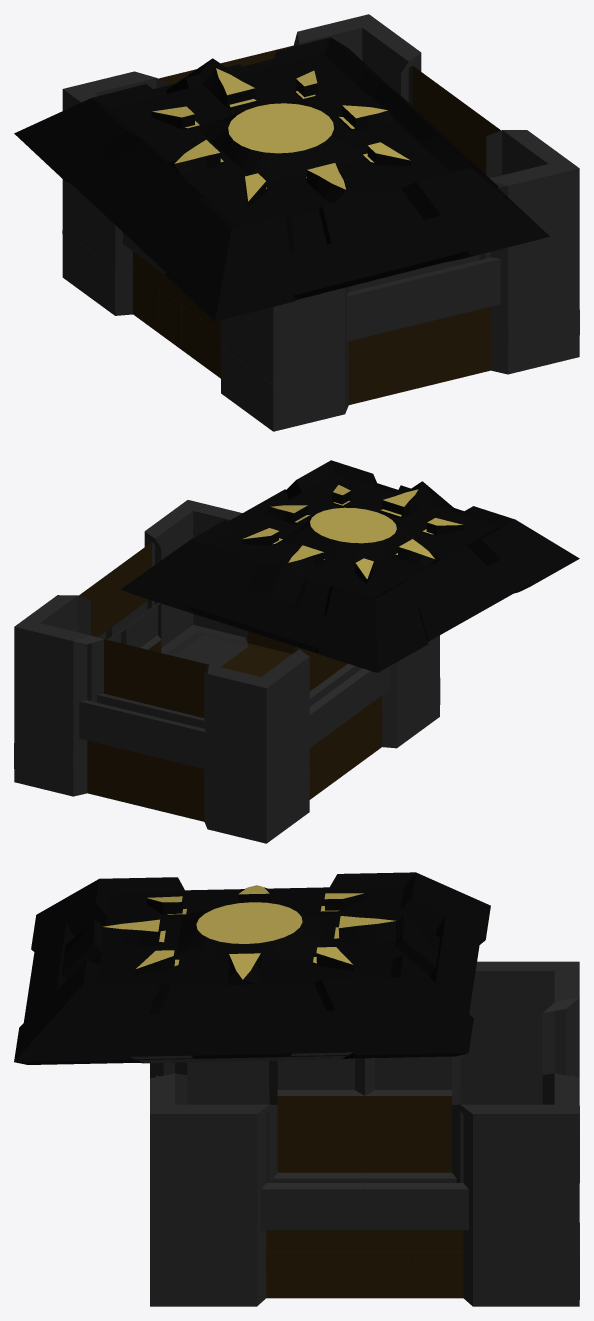
File: TreasureChest.fbx
3 views of the same model, one above another, from view 1: azimuth 30°, elevation 25°; view 2: azimuth 150°, elevation 25°; view 3: azimuth 270°, elevation 25° (orthographic). The views are drawn at different scales.
Parts seen in each view (by area): view 1: Lid, TreasureChest; view 2: TreasureChest, Lid; view 3: TreasureChest, Lid.
Boxes of the visible parts, left/top/right/bottom form: Lid: left=14, top=37, right=549, bottom=321; TreasureChest: left=62, top=14, right=579, bottom=431; TreasureChest: left=14, top=500, right=440, bottom=843; Lid: left=121, top=460, right=579, bottom=672; TreasureChest: left=150, top=961, right=579, bottom=1306; Lid: left=14, top=872, right=490, bottom=1064.
Bounding box in the file's own units: 542 × 329 × 619.
